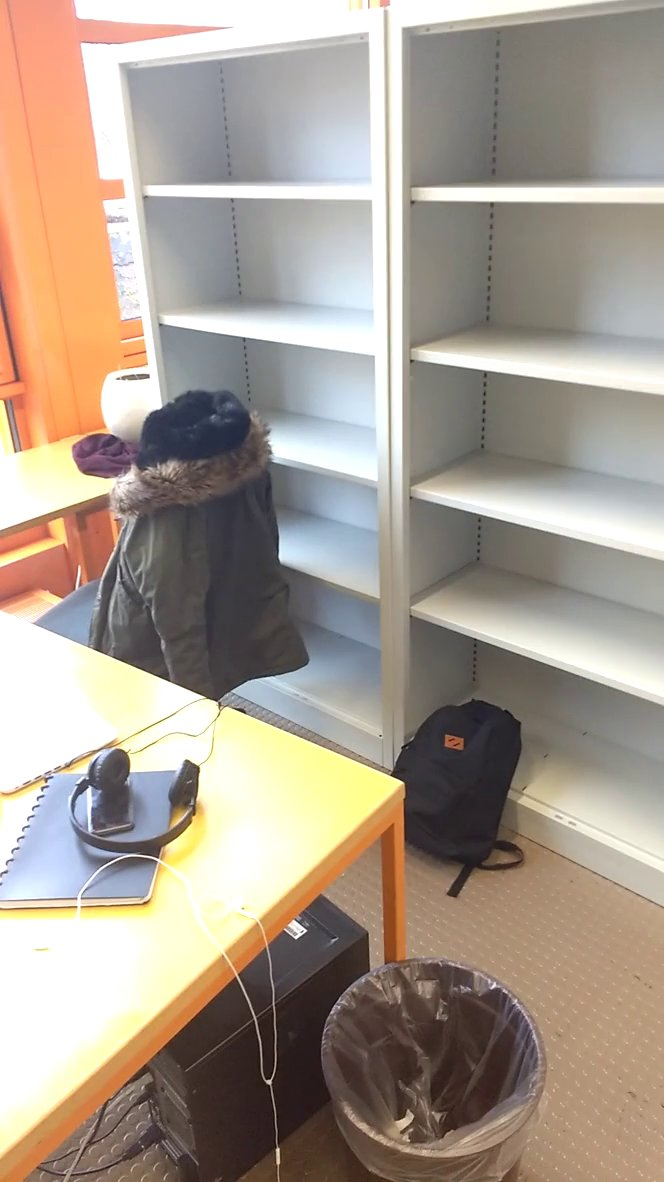bag: (371, 683, 540, 884)
bin: (312, 946, 579, 1182)
